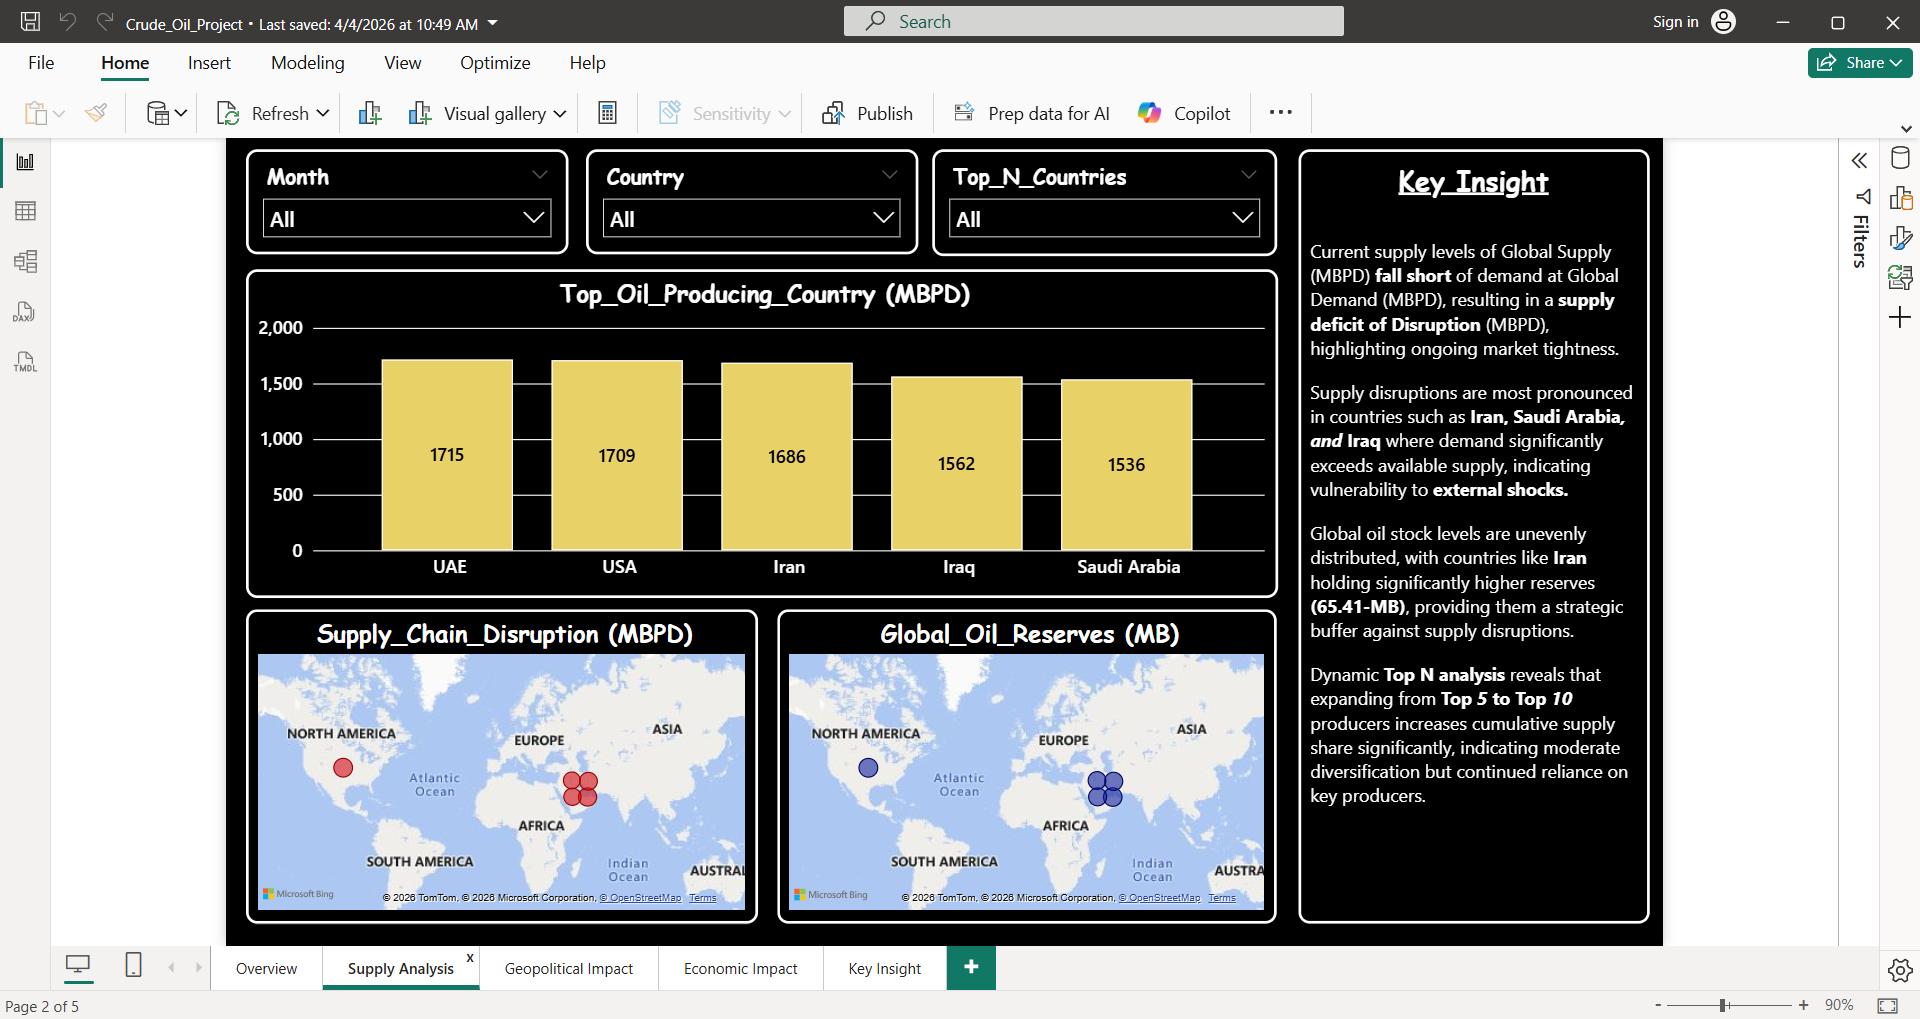

This screenshot's page, from the dashboard's own definition file:
{"tool":"powerbi","page":{"name":"Supply Analysis","canvas":[1280,720],"ordinal":1},"visuals":[{"type":"clusteredColumnChart","title":"Top_Oil_Producing_Country (MBPD)","fields":{"Category":["Supply_Demand.Country"],"Y":["Measures_F.Production (MBPD)"]},"box":[17.3,116.9,919,292.9],"z":0},{"type":"map","title":"Supply_Chain_Disruption (MBPD) ","fields":{"Category":["Supply_Demand.Country"],"Size":["Measures_F.Supply Disruption (MBPD)"]},"box":[17.3,419.8,455.9,279.9],"z":1000},{"type":"map","title":"Global_Oil_Reserves (MB) ","fields":{"Category":["Supply_Demand.Country"],"Size":["Measures_F.Oil Reserves (MB)"]},"box":[490.4,419.4,445.1,280],"z":2000},{"type":"slicer","fields":{"Values":["Date_Table.Month"]},"box":[17.3,10.1,287.1,93.8],"z":3000},{"type":"slicer","fields":{"Values":["Supply_Demand.Country"]},"box":[320.3,10.1,295.8,93.8],"z":4000},{"type":"slicer","fields":{"Values":["TopN Selector.TopN"]},"box":[629,10.1,307.3,95.2],"z":5000},{"type":"textbox","box":[955.1,10.1,313.1,689.6],"z":6000}]}

Visuals, with their boxes on the page's 1280x720 design canvas (x1, y1, x2, y2). These are canvas units, not pixel positions in the 1920x1019 screenshot, which may show the page scaled, cropped or inside an application window:
"Top_Oil_Producing_Country (MBPD)" clusteredColumnChart: <bbox>17, 117, 936, 410</bbox>
"Supply_Chain_Disruption (MBPD) " map: <bbox>17, 420, 473, 700</bbox>
"Global_Oil_Reserves (MB) " map: <bbox>490, 419, 936, 699</bbox>
slicer - Date_Table.Month: <bbox>17, 10, 304, 104</bbox>
slicer - Supply_Demand.Country: <bbox>320, 10, 616, 104</bbox>
slicer - TopN Selector.TopN: <bbox>629, 10, 936, 105</bbox>
textbox: <bbox>955, 10, 1268, 700</bbox>
